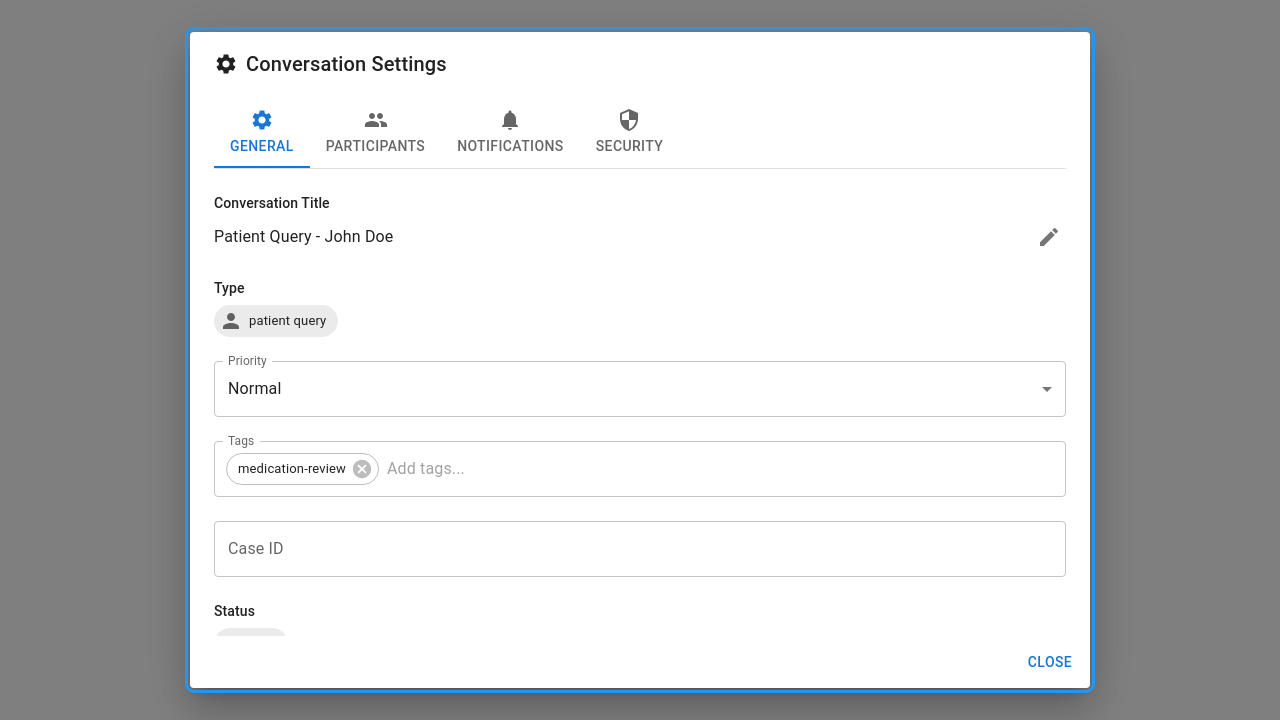
Test case: ConversationSettings › disables archive button for already archived conversations
Click the tab "Security".
click(629, 132)  # box [580,96,679,168]
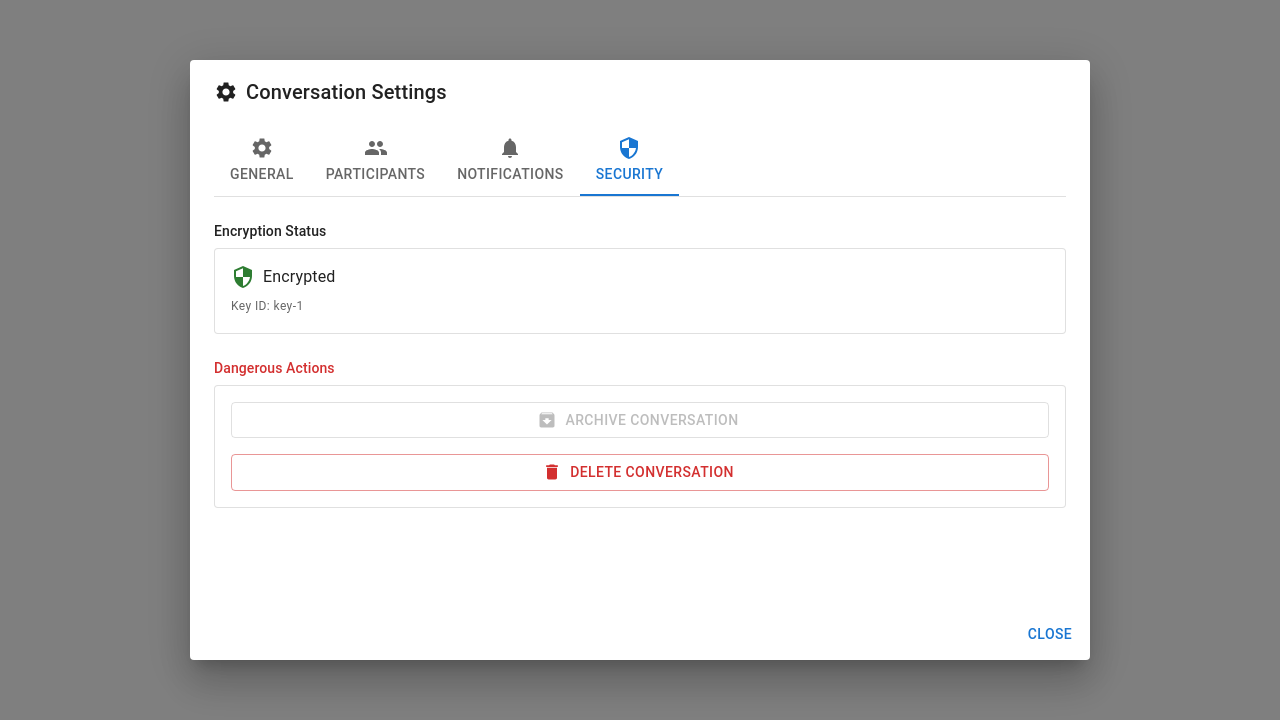
Check: the button "Archive Conversation" is disabled, box [231,402,1049,438]
